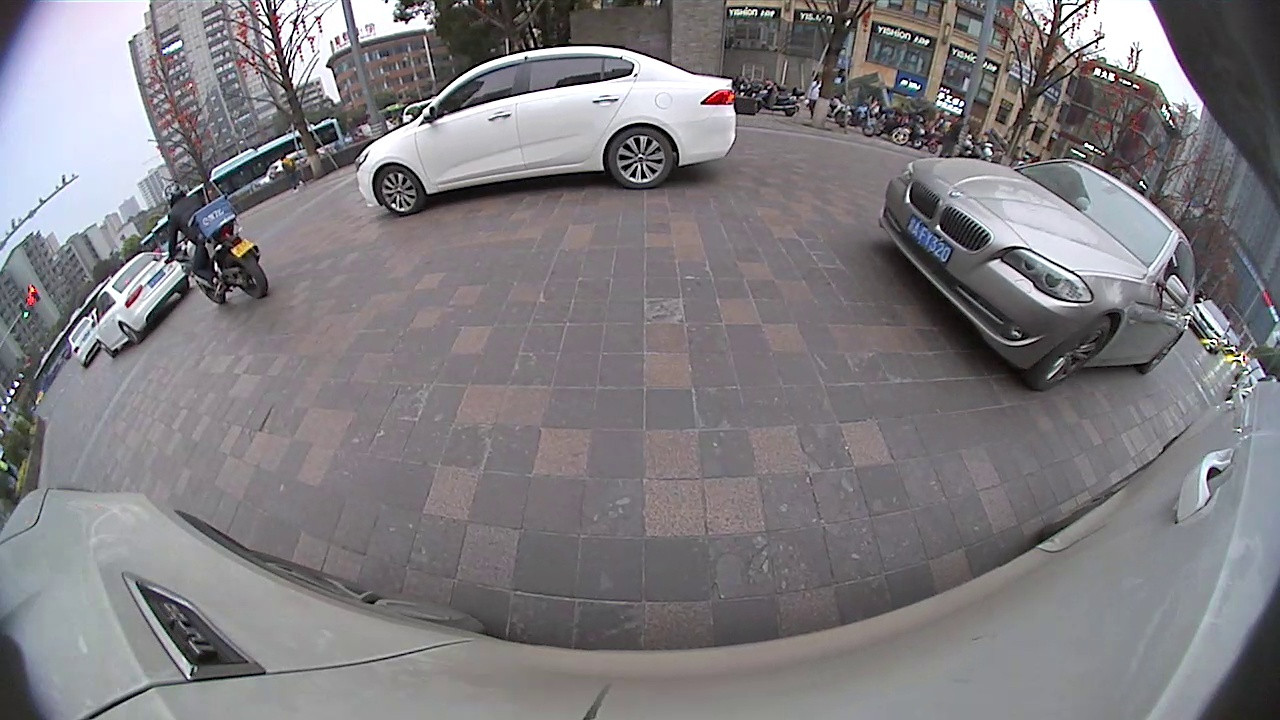car: (876, 156, 1200, 395), (352, 44, 738, 217), (92, 245, 192, 359), (65, 314, 105, 368)
front: (1025, 316, 1114, 398), (370, 160, 428, 218)
rear: (601, 125, 676, 192), (221, 250, 270, 302)
rider: (164, 186, 271, 307)
